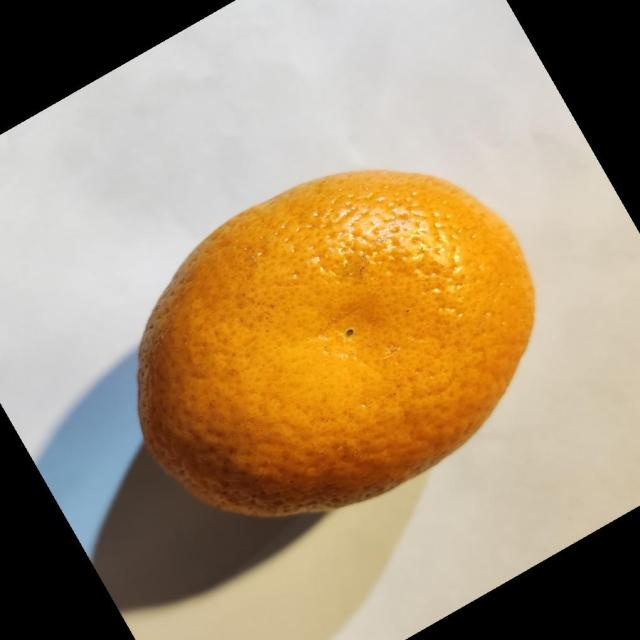agrume: (135, 168, 536, 518)
